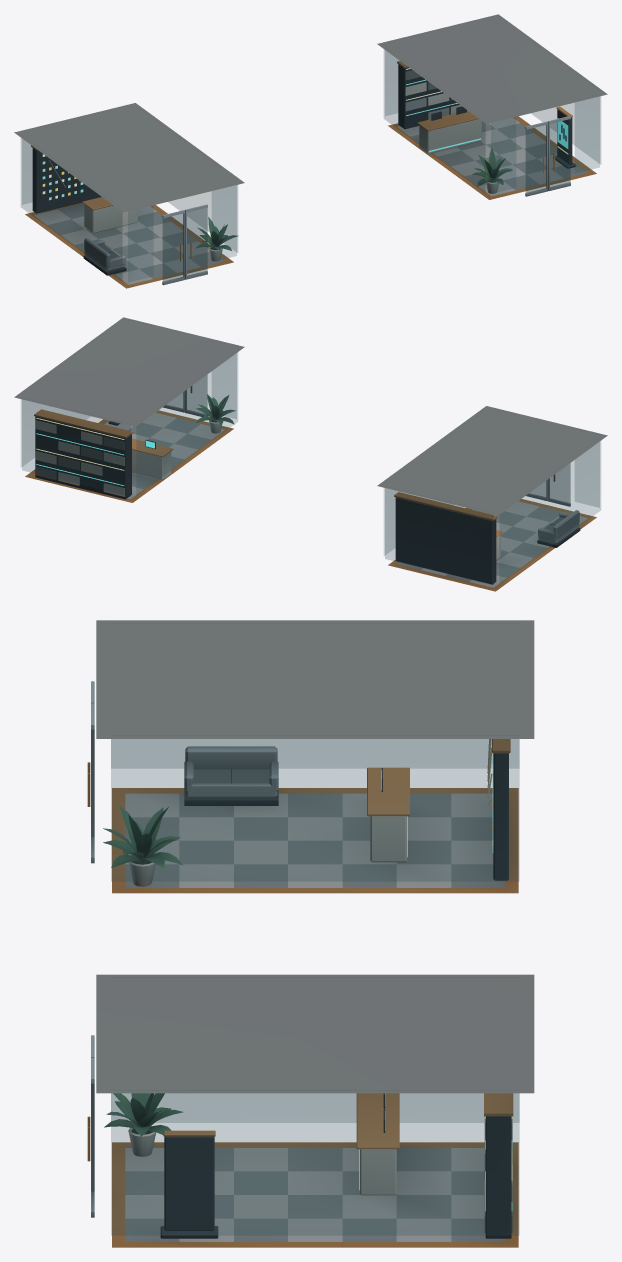
The model's file is lobby-integrations.lod0.glb.
The picture shows the model from 3 angles, top to bottom: view 1: azimuth 30°, elevation 25°; view 2: azimuth 150°, elevation 25°; view 3: azimuth 270°, elevation 25°; orthographic projection. The views are drawn at different scales.
Parts seen in each view (by area): view 1: structure, door_1_l, door_0_l, door_0_r, door_1_r, foliage; view 2: structure, door_0_l, door_1_l, foliage; view 3: structure, foliage.
Boxes of the visible parts, x1=… form: structure: x1=14, y1=14, x2=607, y2=288; door_1_l: x1=525, y1=121, x2=548, y2=196; door_0_l: x1=162, y1=210, x2=185, y2=285; door_0_r: x1=185, y1=204, x2=207, y2=279; door_1_r: x1=548, y1=116, x2=570, y2=190; foliage: x1=196, y1=147, x2=512, y2=250; structure: x1=14, y1=317, x2=607, y2=591; door_0_l: x1=548, y1=463, x2=570, y2=506; door_1_l: x1=185, y1=375, x2=207, y2=416; foliage: x1=196, y1=394, x2=235, y2=424; structure: x1=96, y1=620, x2=534, y2=1247; foliage: x1=103, y1=805, x2=183, y2=1136.
Bounding box in the file's own units: 21.36 × 3.42 × 8.53.
